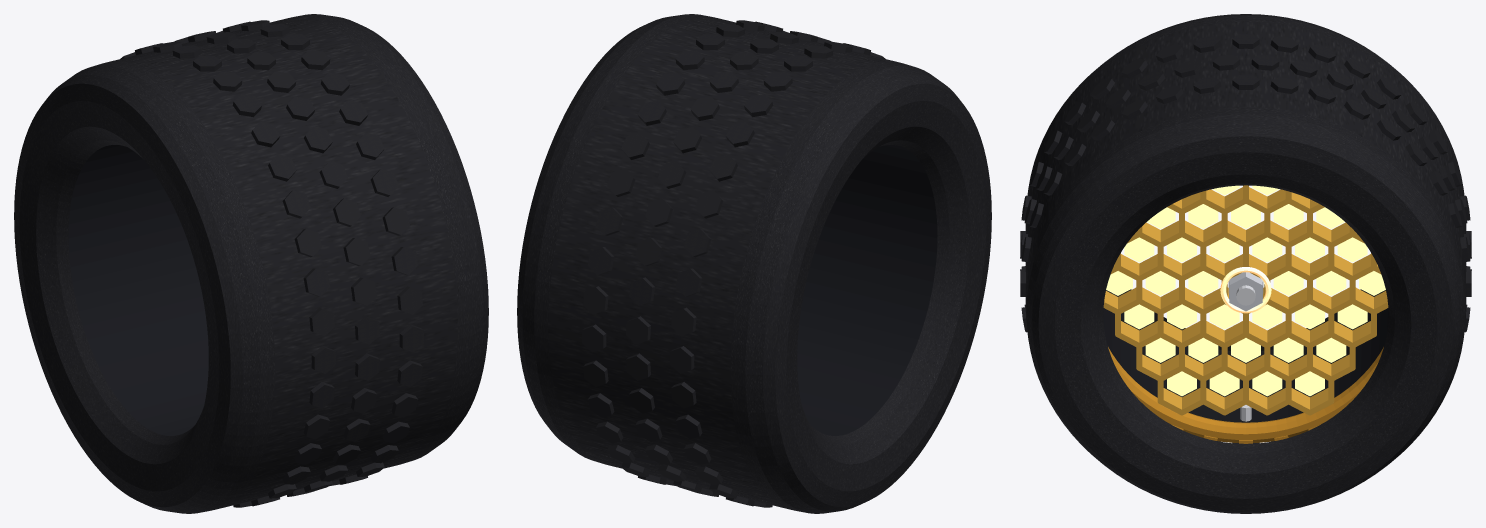
File: tyre-hexcore.glb
The picture shows the model from 3 angles, left to right: view 1: azimuth 30°, elevation 25°; view 2: azimuth 150°, elevation 25°; view 3: azimuth 270°, elevation 25°; orthographic projection. The views are drawn at different scales.
Visible parts, largest first — view 1: Tyre_Rubber, Rim; view 2: Tyre_Rubber, Rim; view 3: Tyre_Rubber, Rim_Spokes, Rim, Rim_Lip, LED_Seg_6, LED_Seg_1, LED_Seg_5, LED_Seg_2, LED_Seg_4, LED_Seg_3, Hub, LED_Ring (+1 smaller).
Part boxes in pixels (bbox=[...]): Tyre_Rubber: bbox=[14, 14, 488, 513]; Rim: bbox=[68, 145, 208, 435]; Tyre_Rubber: bbox=[517, 14, 991, 513]; Rim: bbox=[797, 145, 937, 435]; Tyre_Rubber: bbox=[1020, 14, 1471, 513]; Rim_Spokes: bbox=[1103, 185, 1388, 415]; Rim: bbox=[1103, 289, 1388, 422]; Rim_Lip: bbox=[1108, 347, 1383, 443]; LED_Seg_6: bbox=[1252, 304, 1346, 396]; LED_Seg_1: bbox=[1145, 304, 1260, 396]; LED_Seg_5: bbox=[1273, 237, 1385, 329]; LED_Seg_2: bbox=[1106, 237, 1218, 329]; LED_Seg_4: bbox=[1231, 185, 1344, 262]; LED_Seg_3: bbox=[1147, 185, 1239, 262]; Hub: bbox=[1228, 272, 1263, 311]; LED_Ring: bbox=[1220, 267, 1271, 313].
Bounding box in the file's own units: 0.18 × 0.2788 × 0.2788.
Materials: 13 (1 with a texture image).
